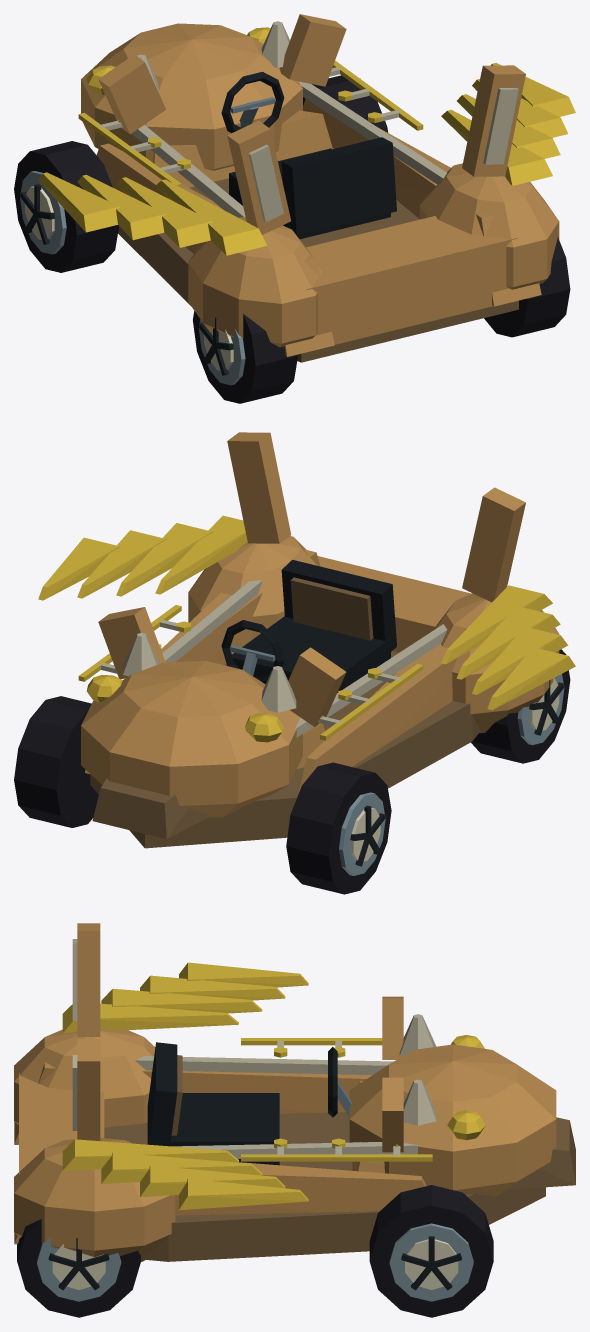
File: kart.glb
The picture shows the model from 3 angles, top to bottom: view 1: azimuth 30°, elevation 25°; view 2: azimuth 150°, elevation 25°; view 3: azimuth 270°, elevation 25°; orthographic projection.
Visible parts, largest first — view 1: identity-beast-beast-sculpted-prow-and-haunches, identity-beast-motif-wings-feather, identity-beast-driver-cockpit, identity-beast-motif-ears, wheel-front-left, wheel-rear-left, wheel-rear-right, identity-beast-motif-circuit, wheel-front-right; view 2: identity-beast-beast-sculpted-prow-and-haunches, identity-beast-motif-wings-feather, identity-beast-driver-cockpit, wheel-front-left, identity-beast-motif-ears, wheel-front-right, wheel-rear-left, identity-beast-motif-circuit; view 3: identity-beast-beast-sculpted-prow-and-haunches, identity-beast-motif-wings-feather, wheel-front-right, identity-beast-driver-cockpit, wheel-rear-right, identity-beast-motif-ears, identity-beast-motif-circuit.
Boxes of the visible parts, left/top/right/bottom form: identity-beast-beast-sculpted-prow-and-haunches: left=81, top=14, right=559, bottom=362; identity-beast-motif-wings-feather: left=38, top=63, right=575, bottom=255; identity-beast-driver-cockpit: left=221, top=71, right=396, bottom=239; identity-beast-motif-ears: left=227, top=65, right=525, bottom=234; wheel-front-left: left=14, top=141, right=118, bottom=272; wheel-rear-left: left=193, top=311, right=297, bottom=403; wheel-rear-right: left=484, top=237, right=570, bottom=337; identity-beast-motif-circuit: left=78, top=60, right=423, bottom=187; wheel-front-right: left=303, top=75, right=388, bottom=132; identity-beast-beast-sculpted-prow-and-haunches: left=81, top=536, right=559, bottom=848; identity-beast-motif-wings-feather: left=38, top=515, right=575, bottom=709; identity-beast-driver-cockpit: left=221, top=559, right=396, bottom=692; wheel-front-left: left=286, top=762, right=391, bottom=894; identity-beast-motif-ears: left=227, top=432, right=525, bottom=602; wheel-front-right: left=14, top=696, right=98, bottom=827; wheel-rear-left: left=471, top=649, right=570, bottom=763; identity-beast-motif-circuit: left=78, top=605, right=423, bottom=740; identity-beast-beast-sculpted-prow-and-haunches: left=14, top=996, right=575, bottom=1261; identity-beast-motif-wings-feather: left=62, top=962, right=308, bottom=1210; wheel-front-right: left=369, top=1185, right=493, bottom=1317; identity-beast-driver-cockpit: left=147, top=1042, right=351, bottom=1165; wheel-rear-right: left=17, top=1219, right=140, bottom=1317; identity-beast-motif-ears: left=72, top=923, right=100, bottom=1140; identity-beast-motif-circuit: left=241, top=1038, right=432, bottom=1161.
Bounding box in the file's own units: 2.88 × 1.46 × 2.9.
